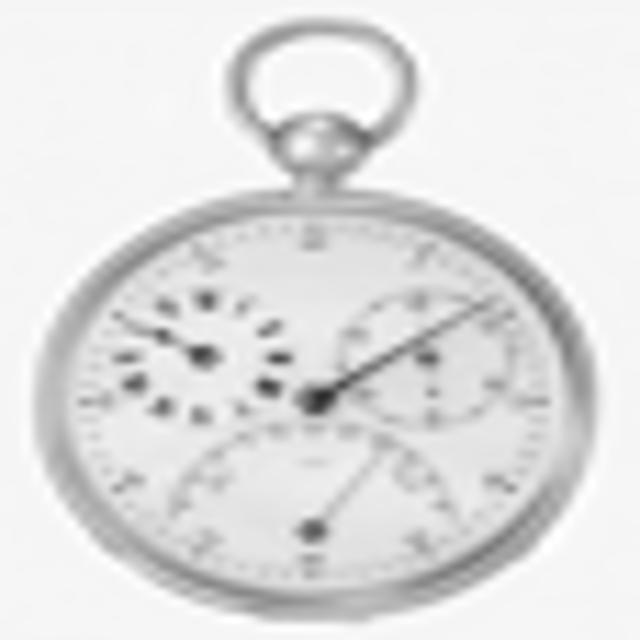number_60: (294, 215, 343, 258)
